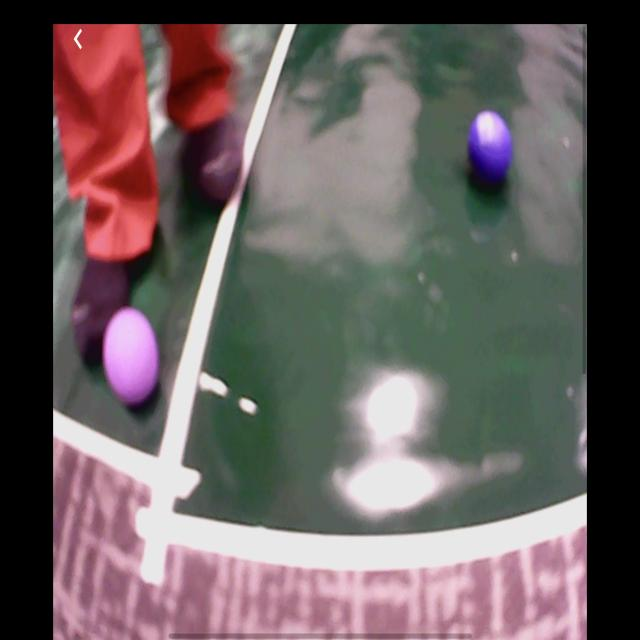ball: (105, 307, 160, 410), (468, 112, 514, 185)
